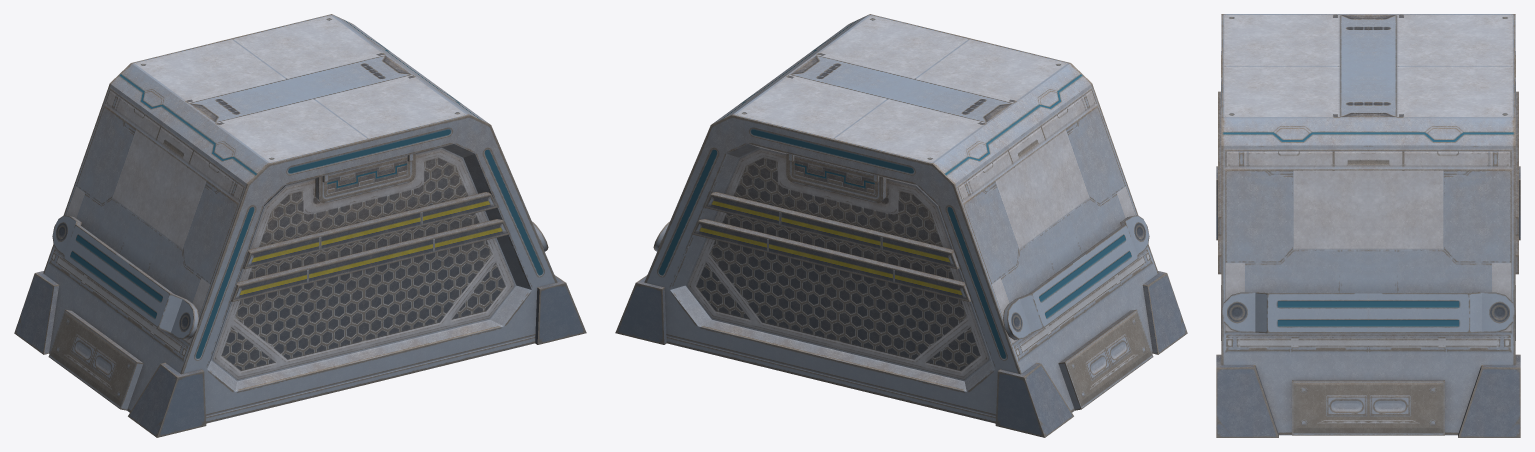
The model's file is CrateMedium.fbx.
The picture shows the model from 3 angles, left to right: view 1: azimuth 30°, elevation 25°; view 2: azimuth 150°, elevation 25°; view 3: azimuth 270°, elevation 25°; orthographic projection. The views are drawn at different scales.
Parts seen in each view (by area): view 1: polySurface3574; view 2: polySurface3574; view 3: polySurface3574.
Boxes of the visible parts, x1,y1,x2,y2 form: polySurface3574: [14, 14, 586, 437]; polySurface3574: [615, 14, 1187, 437]; polySurface3574: [1216, 14, 1520, 437].
Size of the model in its own units: 6.02 by 3.25 by 3.45.
